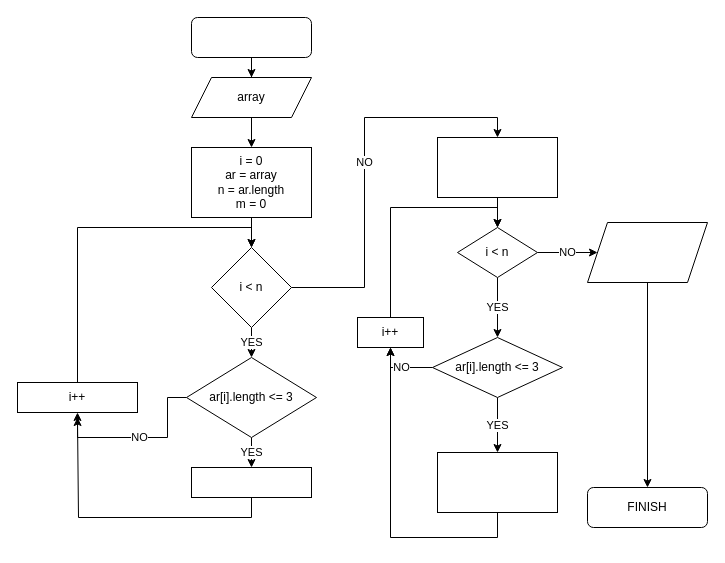
Some shapes in this 725 by 563 pixel diagram are drawn without their labels. Here are the shapes that lost their labels. From the top down, the centre of each, then its label:
the point at 251,37: START
the point at 497,167: ar2 = String[m] i = 0 j = 0
the point at 647,252: ar2
the point at 251,482: m++
the point at 497,482: ar2[j] = ar[i] j++
